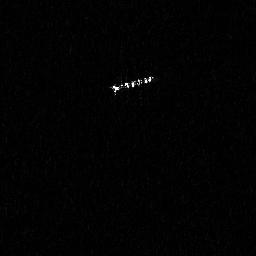ship: (108, 73, 156, 97)
